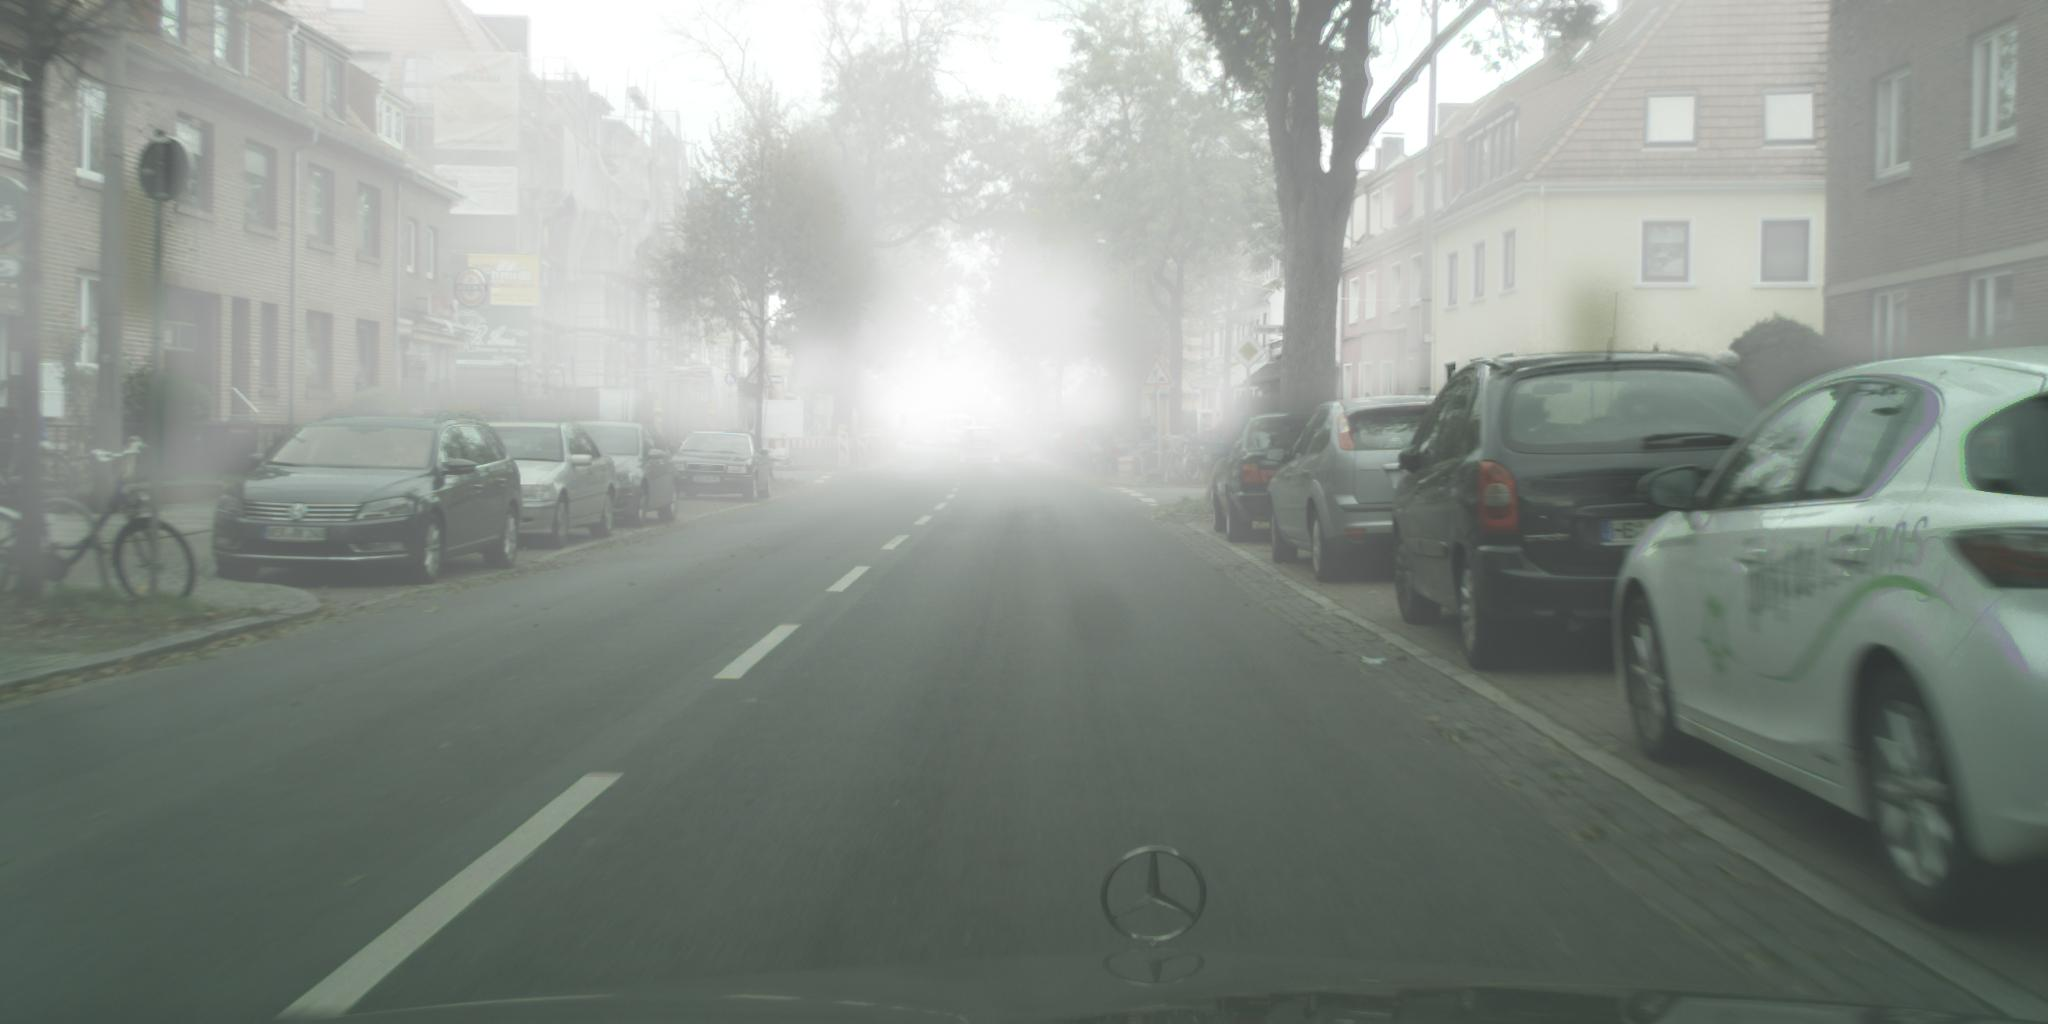bicycle: (1, 436, 199, 609)
bus: (923, 414, 977, 449)
car: (1610, 344, 2048, 927), (1392, 349, 1788, 674), (212, 408, 525, 586), (1266, 394, 1459, 585), (470, 421, 622, 551), (1211, 413, 1322, 543), (566, 421, 682, 530), (665, 432, 773, 504), (957, 427, 1000, 462)
